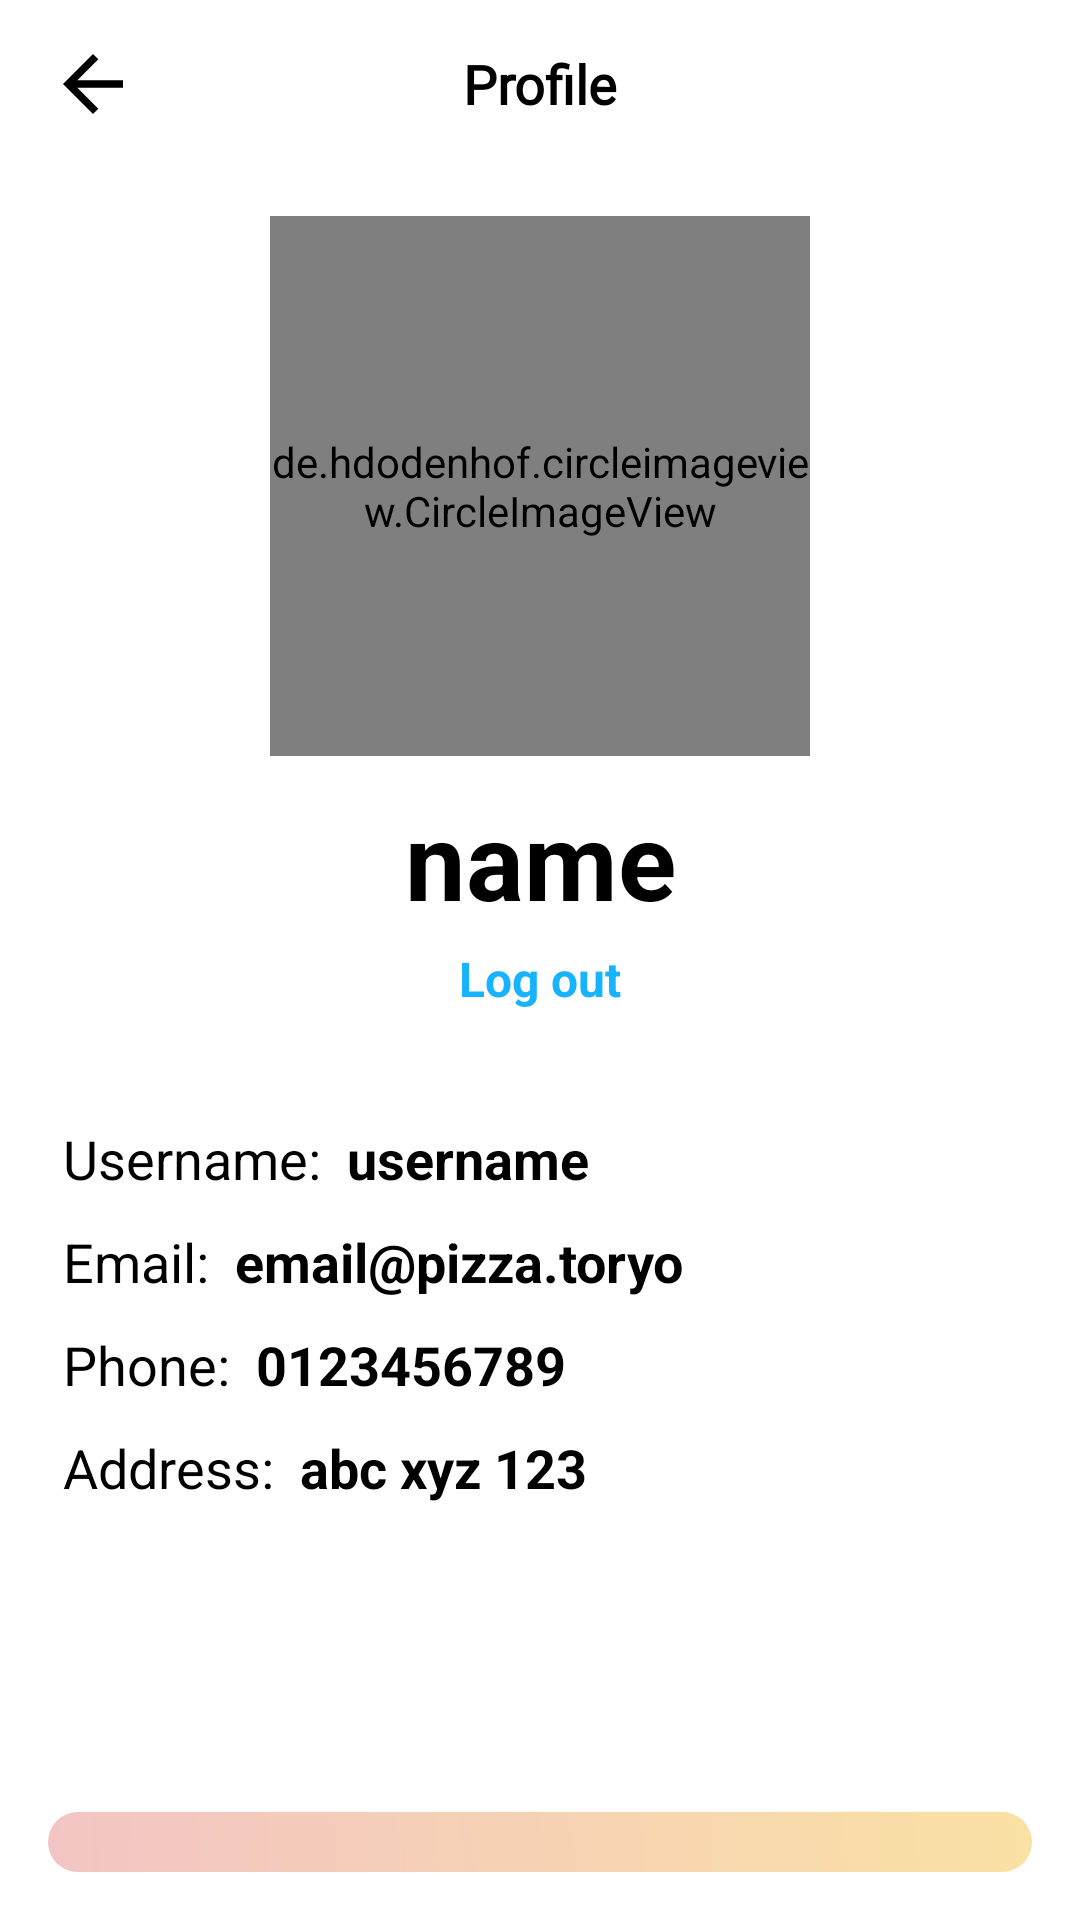

Named icons in this screenshot (1080w x 1920h) and their centers, [x,y]:
arrow back: [93,84]
